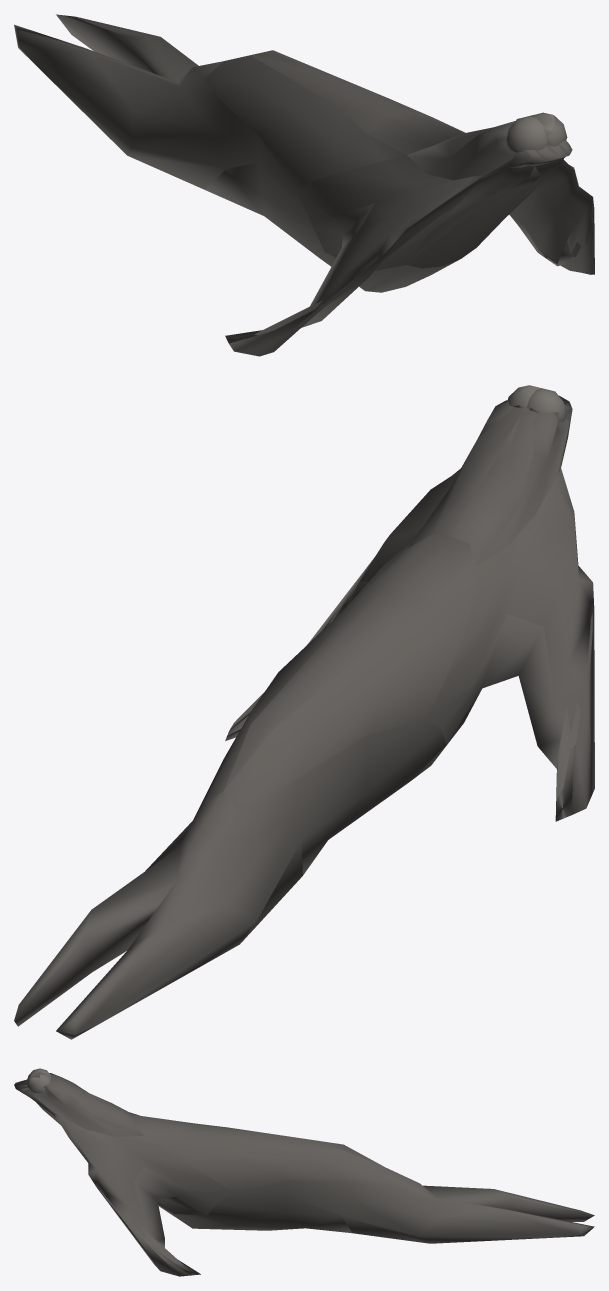
Rendered from FrsSeehund_Heuler.gltf.
The picture shows the model from 3 angles, top to bottom: view 1: azimuth 30°, elevation 25°; view 2: azimuth 150°, elevation 25°; view 3: azimuth 270°, elevation 25°; orthographic projection. The views are drawn at different scales.
Visible parts, largest first — view 1: FrsSeehund_Heuler; view 2: FrsSeehund_Heuler; view 3: FrsSeehund_Heuler.
Part boxes in pixels (bbox=[...]): FrsSeehund_Heuler: bbox=[14, 14, 594, 356]; FrsSeehund_Heuler: bbox=[14, 385, 594, 1039]; FrsSeehund_Heuler: bbox=[14, 1068, 594, 1276].
Size of the model in its own units: 0.3295 by 0.2559 by 0.85.
